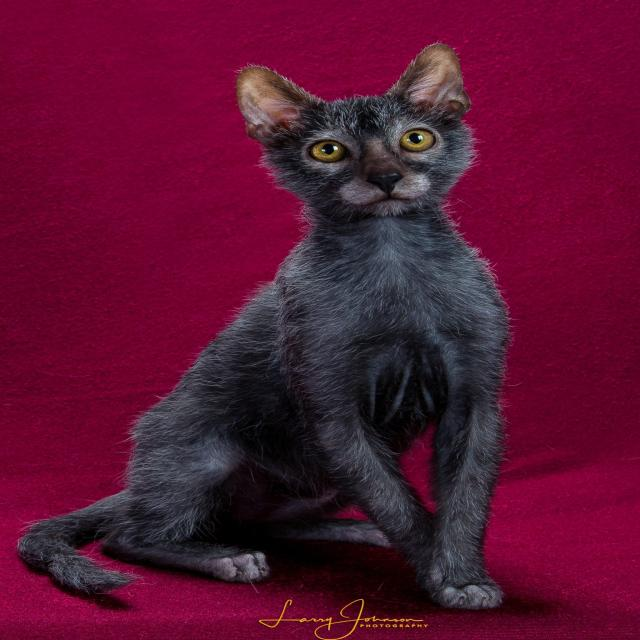Lykoi: (9, 39, 519, 616)
